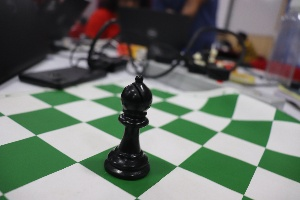black_bishop: (101, 67, 157, 183)
